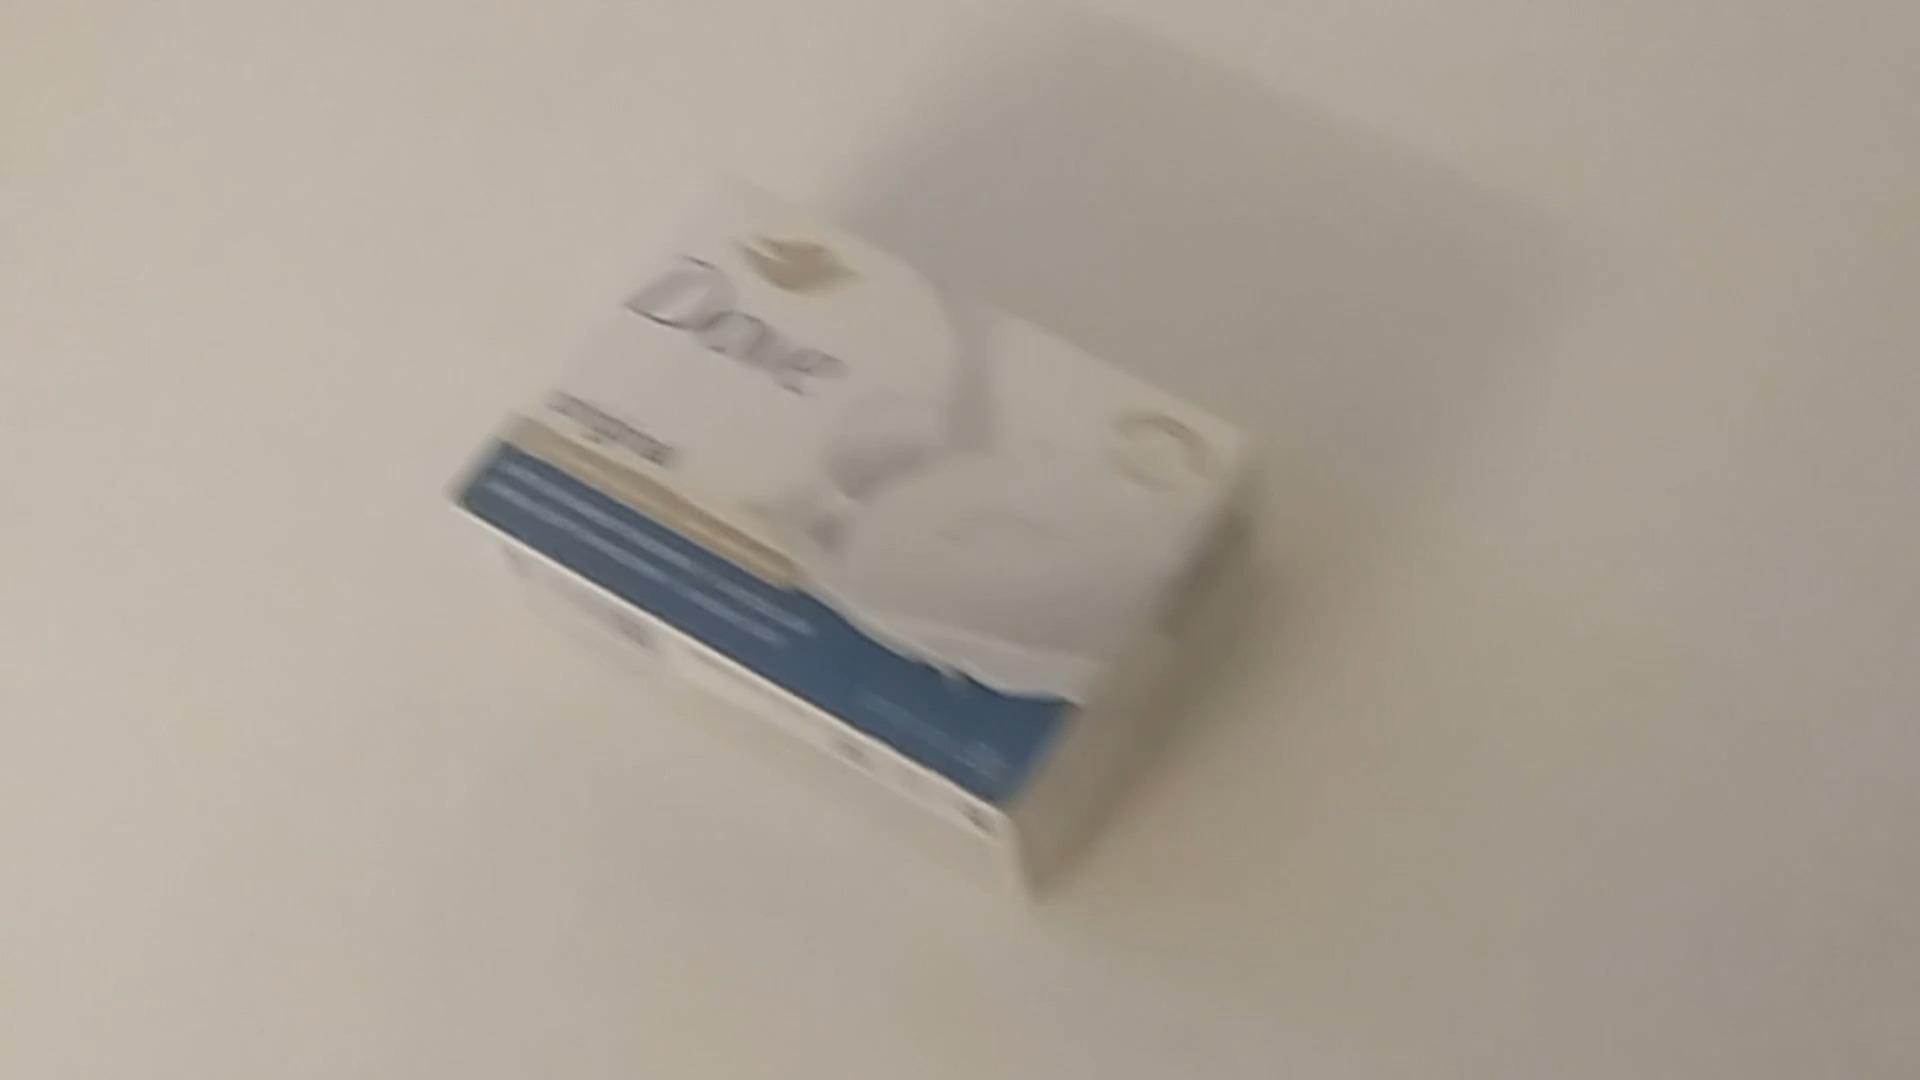soap: (436, 183, 1258, 902)
